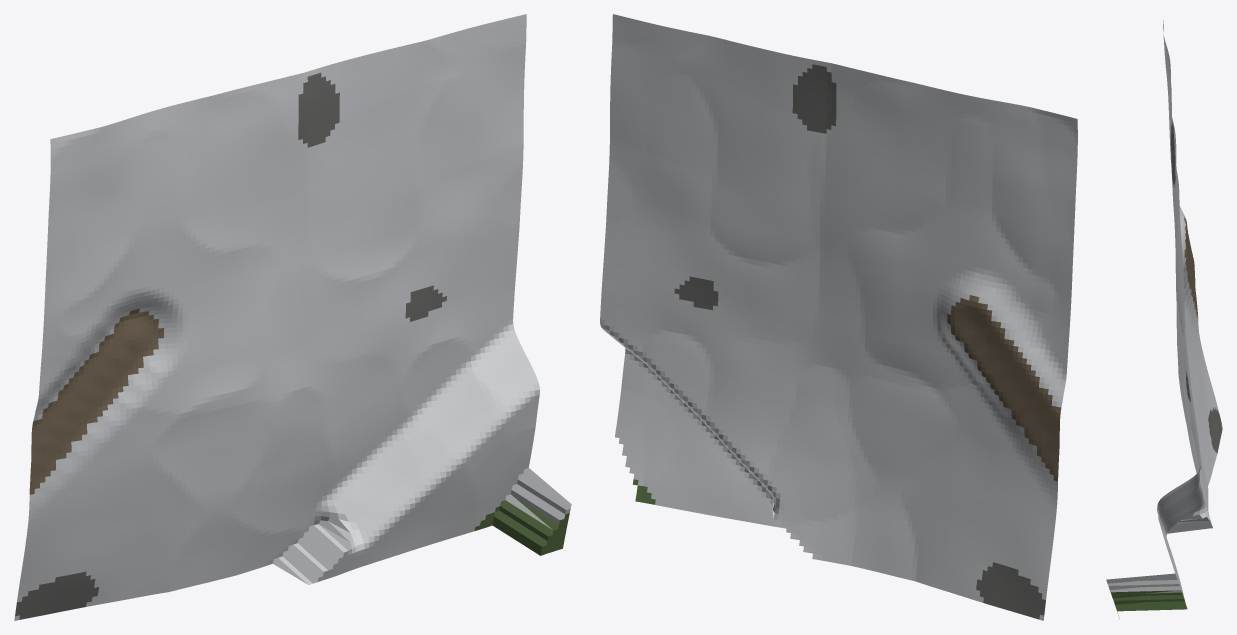
Rendered from SARM_SAR_Terrain_02_05.glb.
The picture shows the model from 3 angles, left to right: view 1: azimuth 30°, elevation 25°; view 2: azimuth 150°, elevation 25°; view 3: azimuth 270°, elevation 25°; orthographic projection. The views are drawn at different scales.
Parts seen in each view (by area): view 1: SAR_Terrain_02_05.001; view 2: SAR_Terrain_02_05.001; view 3: SAR_Terrain_02_05.001.
Part boxes in pixels (box(x1,y1,x2,y2)): SAR_Terrain_02_05.001: box(14, 14, 571, 620); SAR_Terrain_02_05.001: box(600, 14, 1077, 620); SAR_Terrain_02_05.001: box(1106, 20, 1222, 618).
Size of the model in its own units: 50 by 50 by 12.79.
